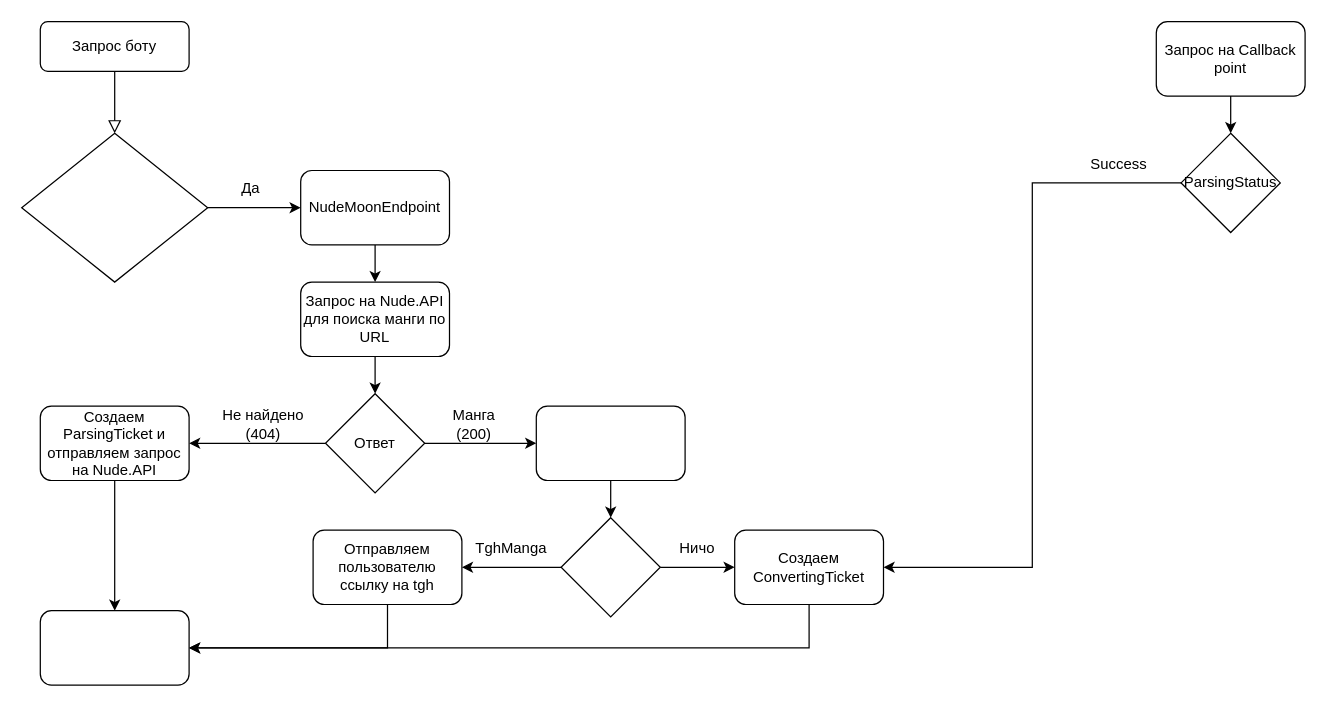
Image size: 1327x707. Some labels were removed from this diagram. Each missing label, with the box of its shape:
Ищем в базе данных Nude.Bot.Db модель TghManga по Id: (535, 405, 685, 480)
Конец обработки запроса: (39, 609, 189, 685)
Результат: (560, 516, 660, 617)
Является ссылкой на nude-moon.org?: (20, 132, 208, 282)
